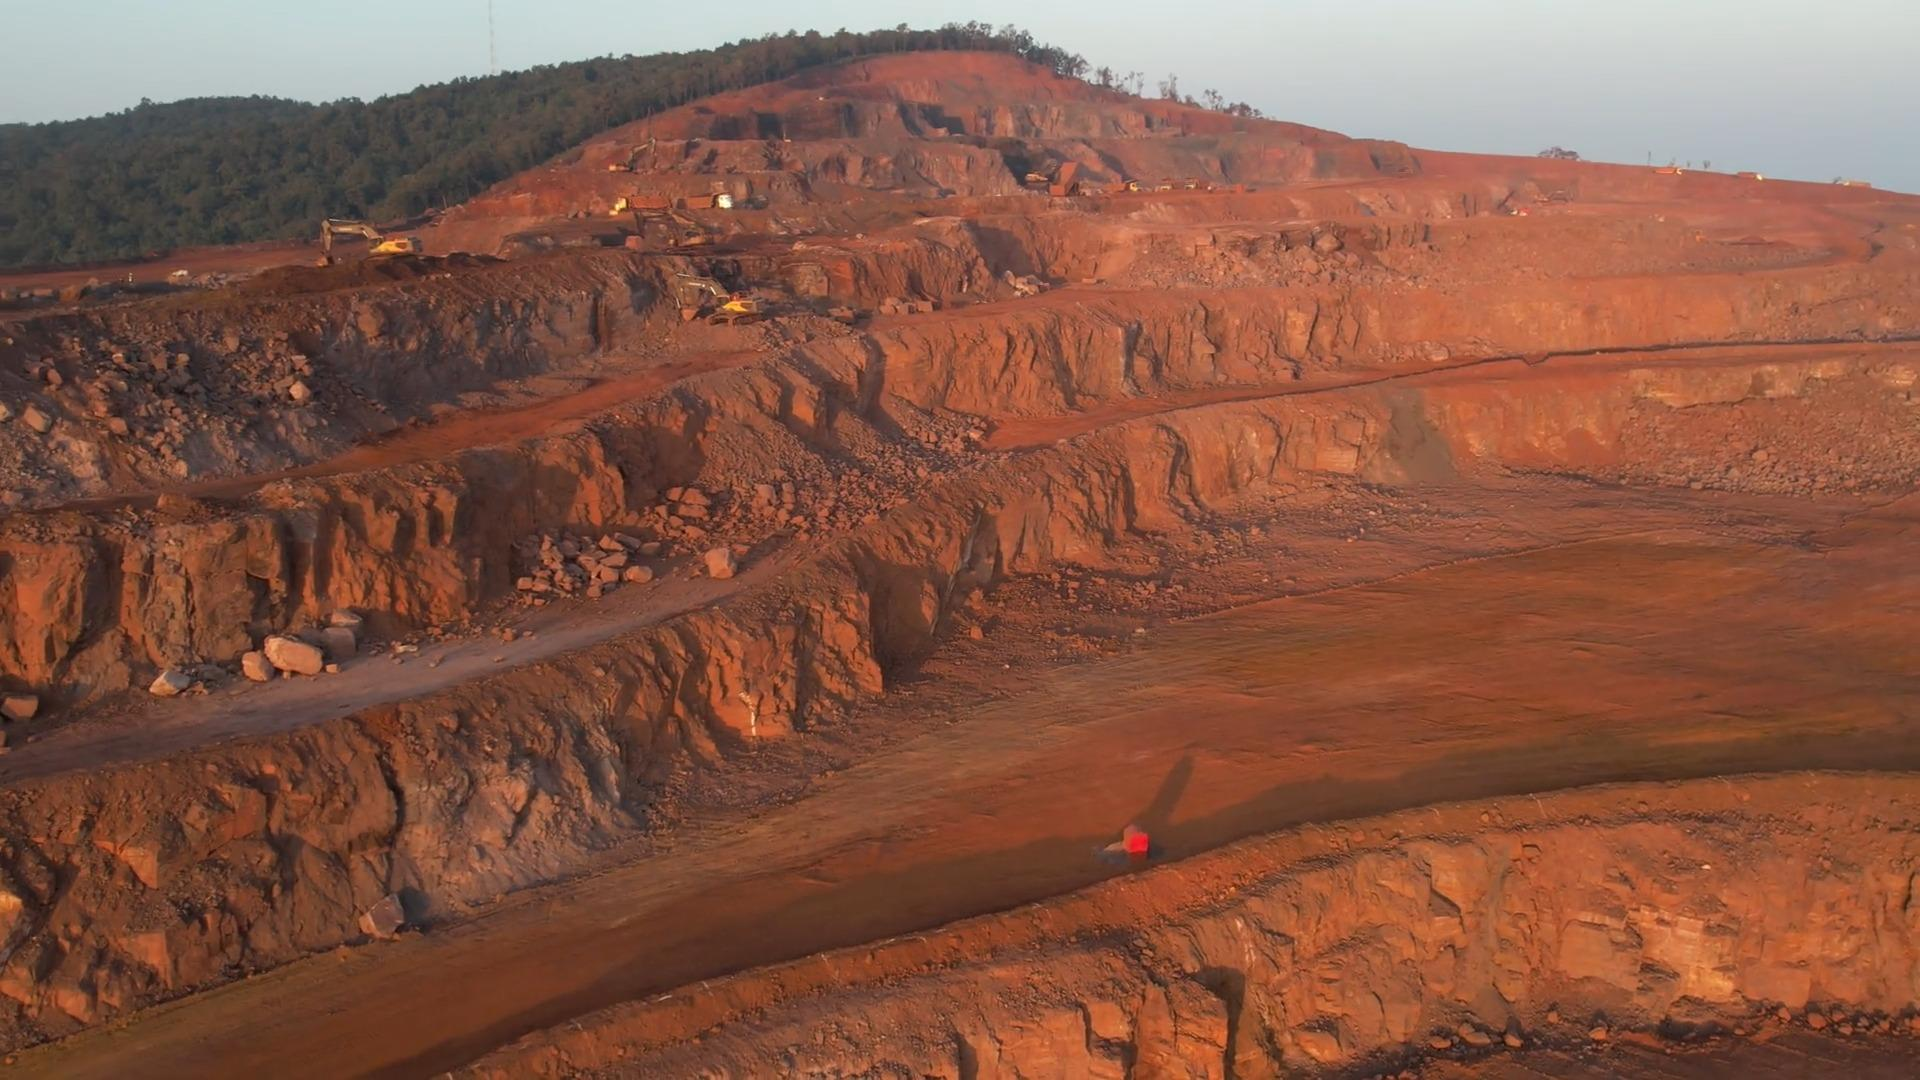excavator: (678, 274, 769, 326), (322, 223, 425, 265)
